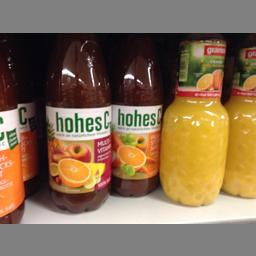juice: (158, 34, 228, 204), (44, 32, 108, 213), (108, 34, 162, 196)
